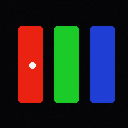0 point: (29, 62, 35, 68)
